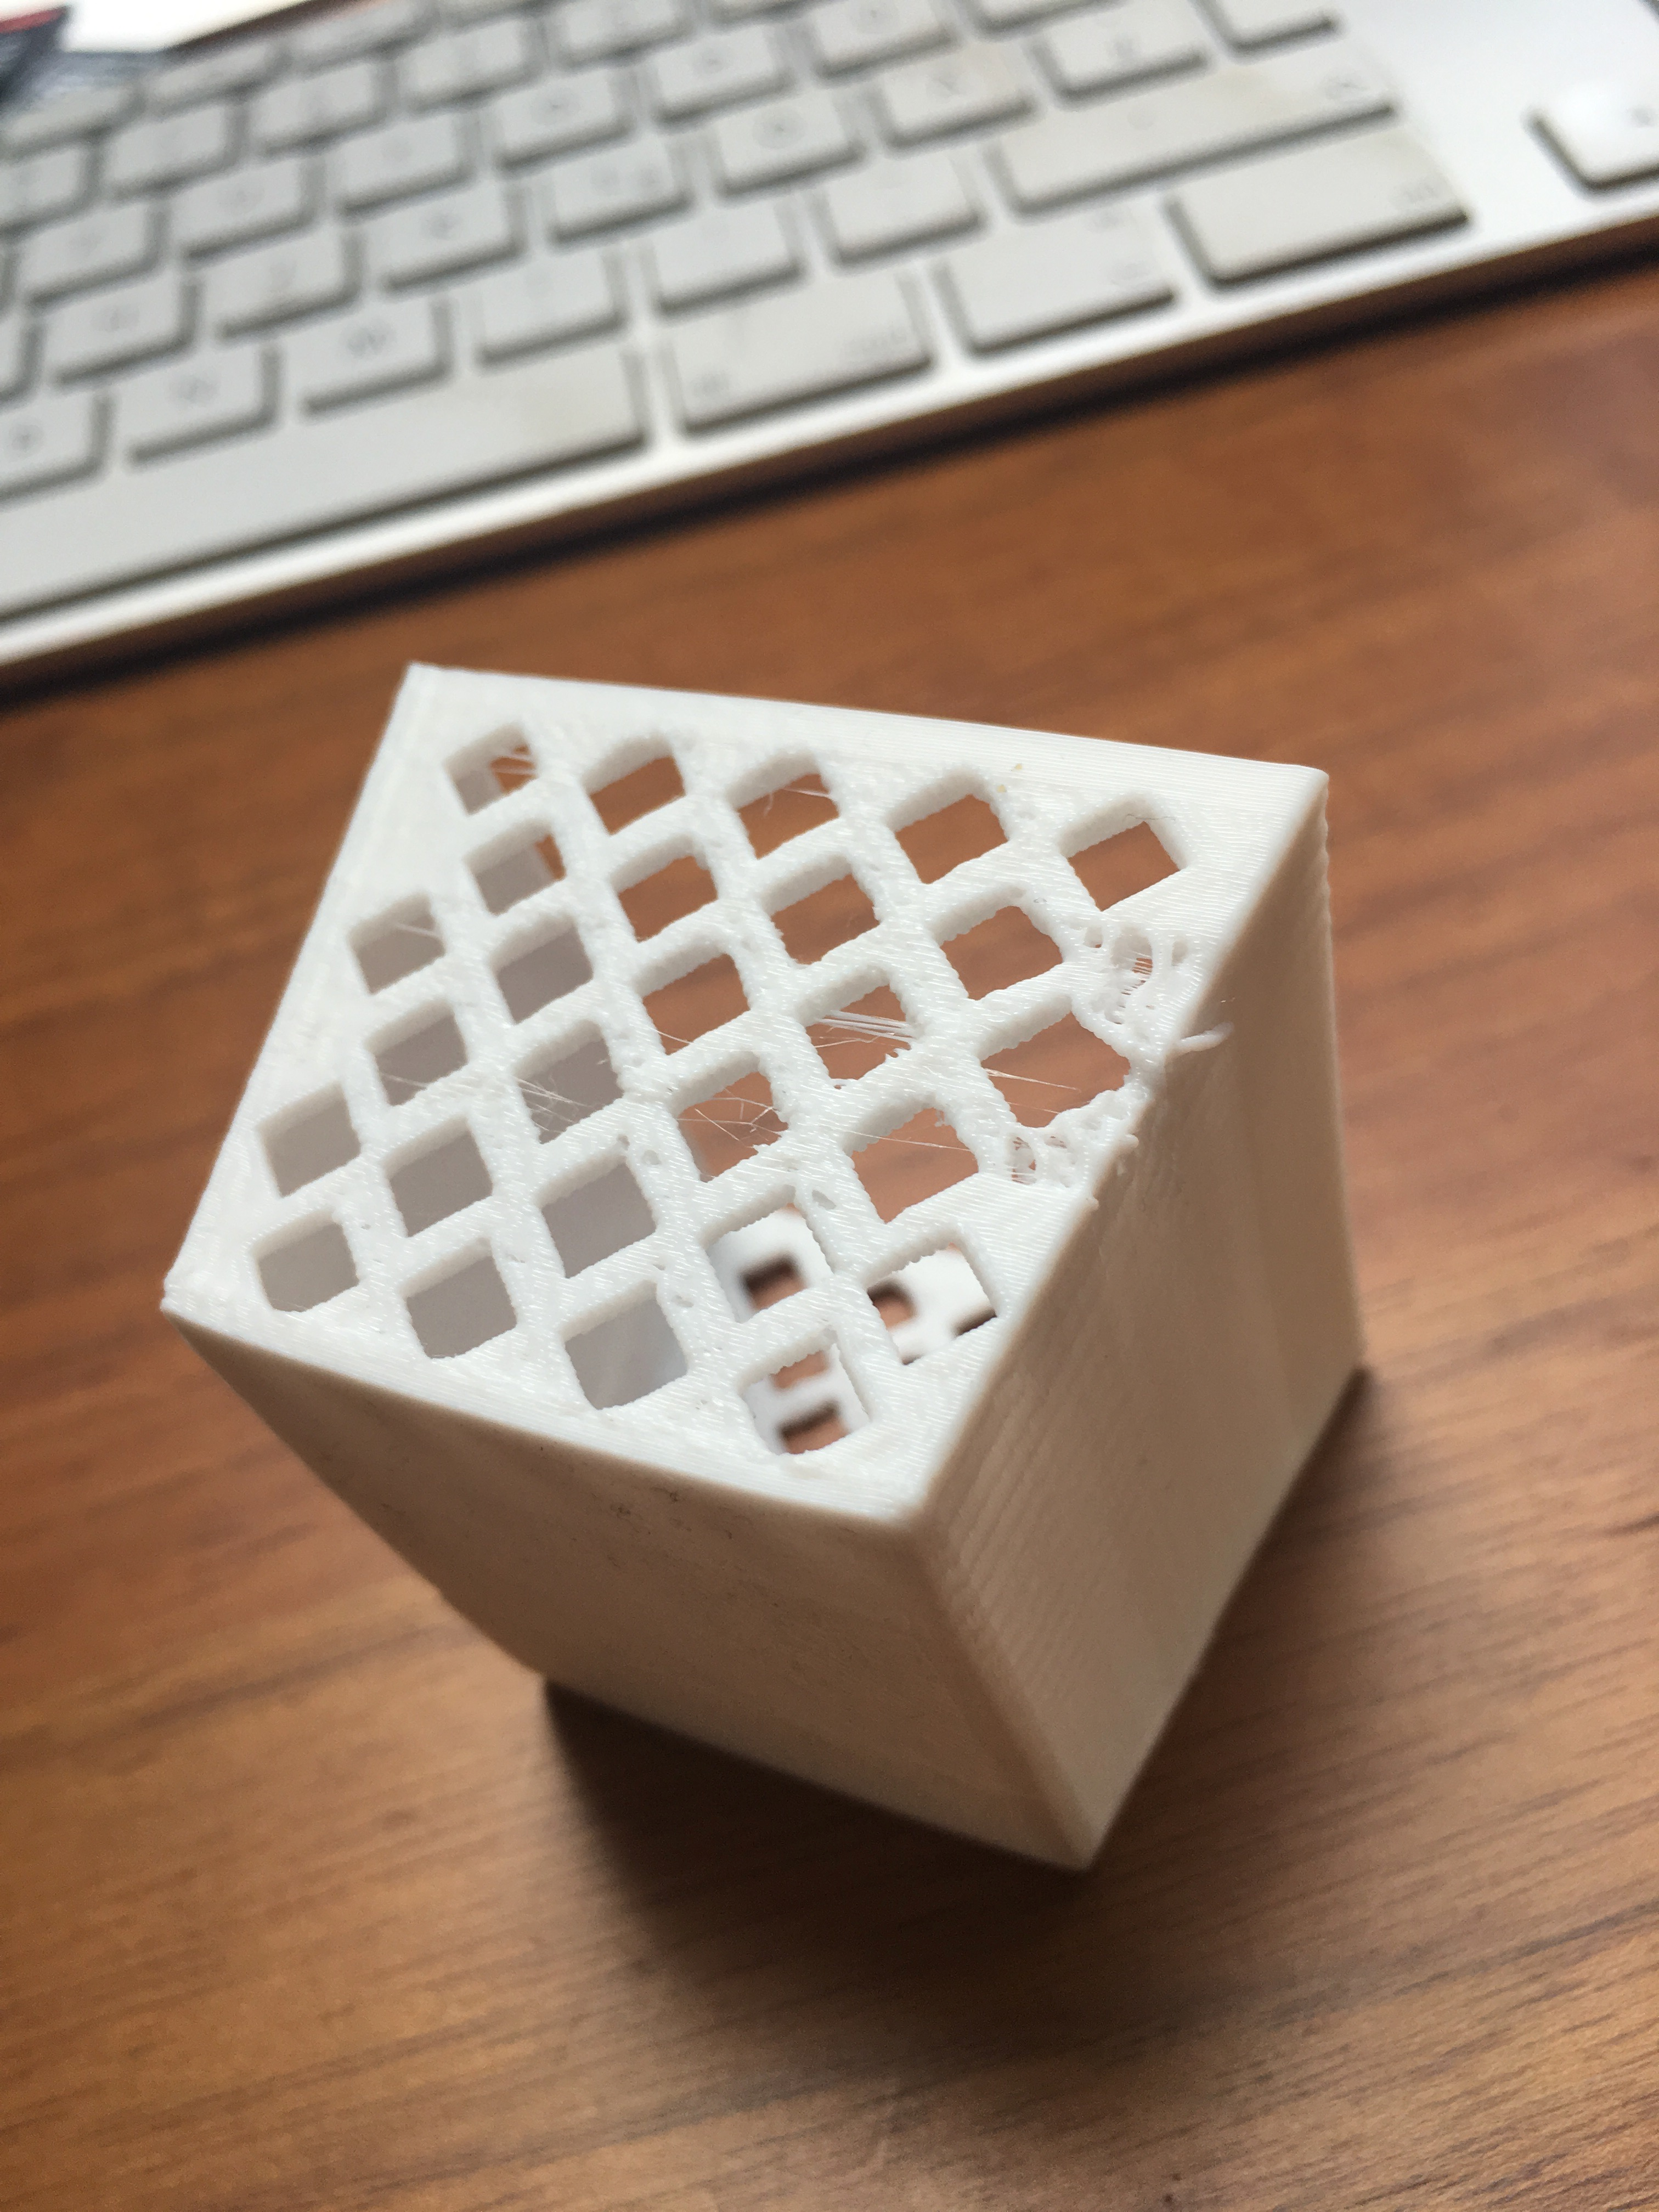3dpstringing: (798, 979, 934, 1080), (983, 1042, 1117, 1132), (498, 1061, 634, 1144), (763, 752, 868, 838), (474, 707, 561, 808), (382, 890, 467, 988), (708, 1078, 793, 1146), (369, 1040, 441, 1106)
3dpunderextrusion: (1058, 911, 1237, 1057), (981, 1123, 1147, 1217), (631, 1242, 730, 1332), (772, 1160, 866, 1237), (622, 1134, 685, 1191)
